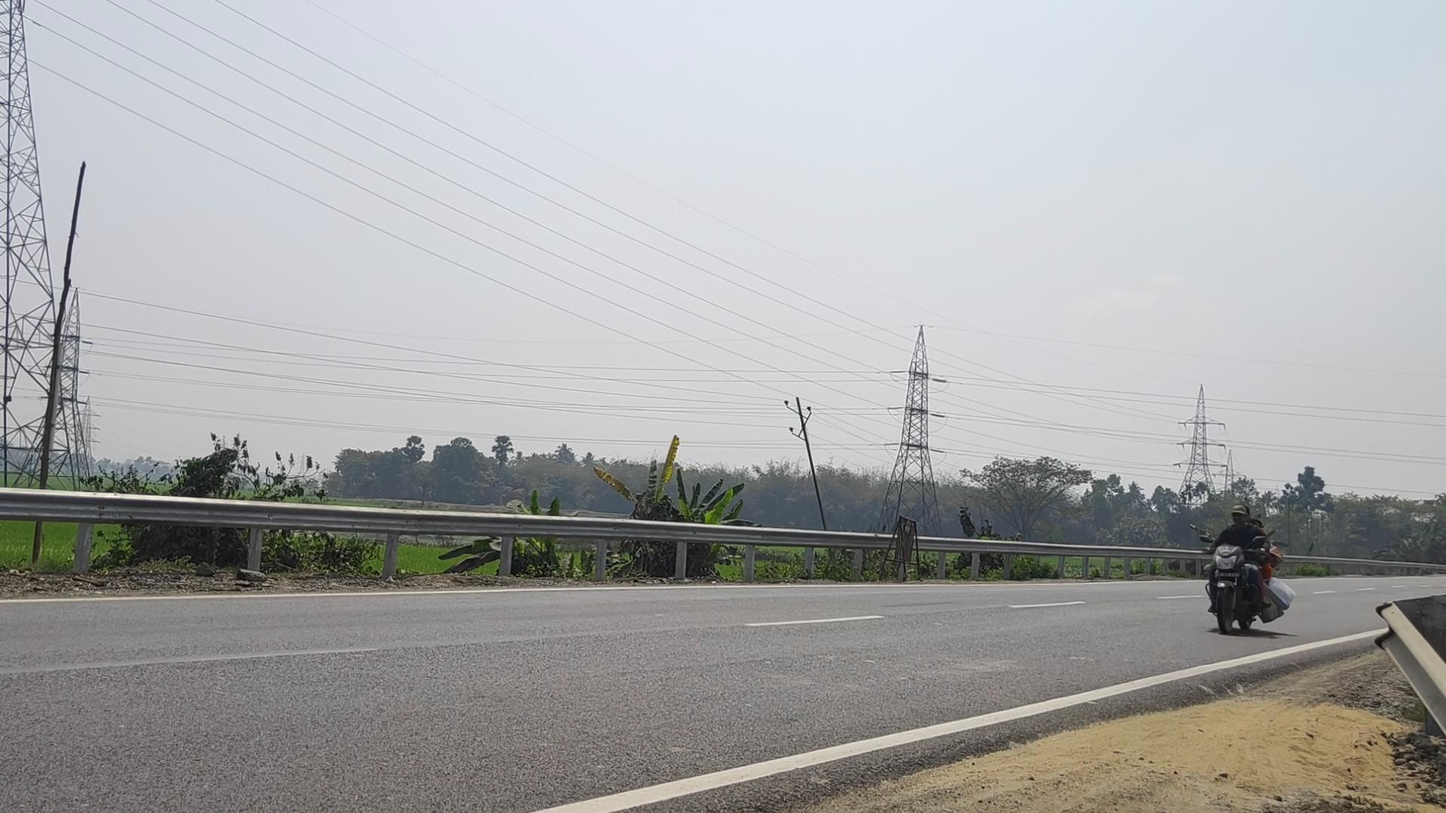bike: (1199, 504, 1295, 634)
